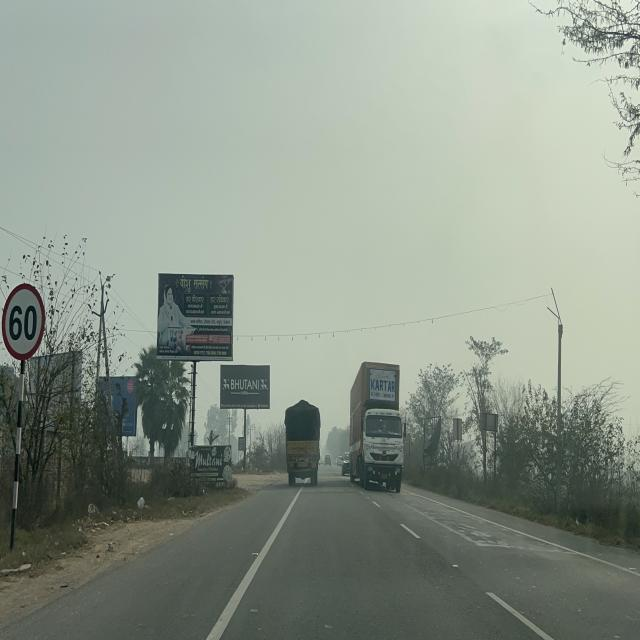SPEED_LIMIT_60: (2, 281, 45, 362)
